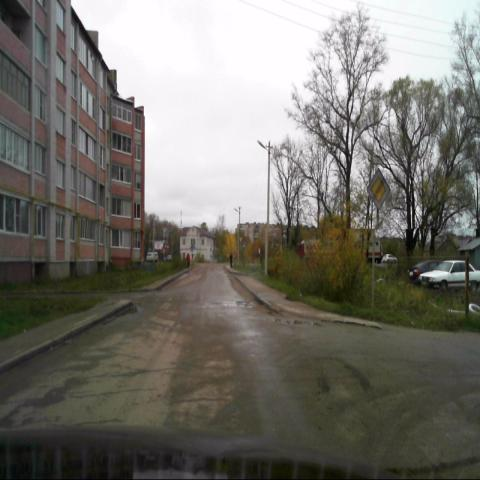2_2: (366, 168, 391, 211)
